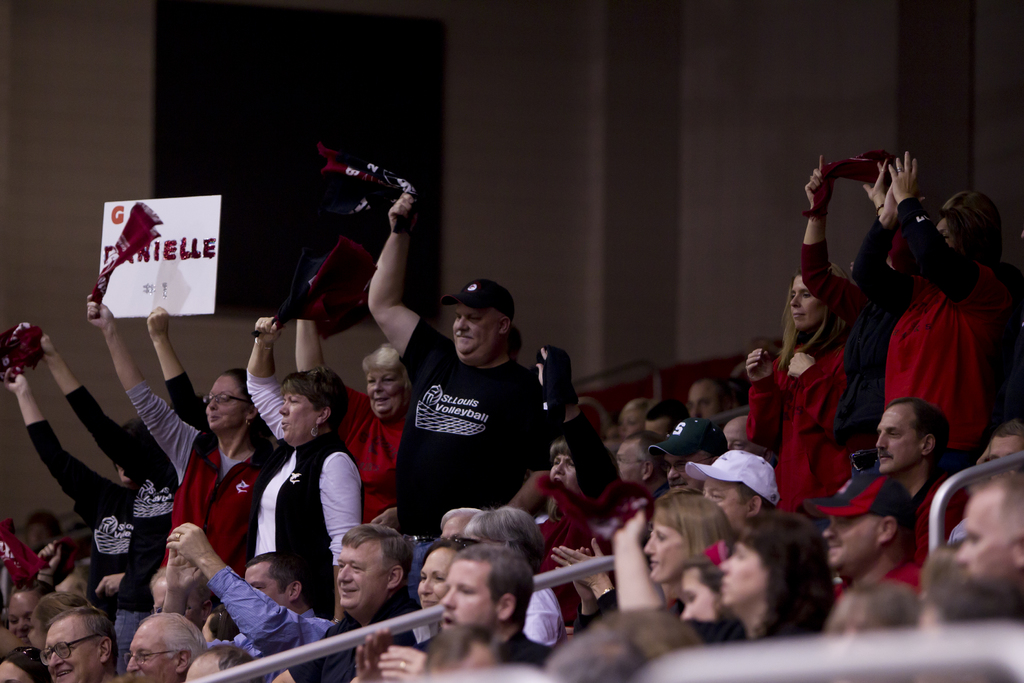Human_hand: (550, 533, 616, 586), (351, 628, 390, 682), (886, 148, 922, 205), (376, 646, 430, 682), (166, 523, 209, 568), (9, 322, 56, 360), (165, 552, 203, 595), (805, 154, 833, 205), (85, 293, 122, 331), (385, 193, 415, 234), (744, 347, 776, 384), (784, 349, 819, 382), (861, 160, 888, 201), (574, 548, 593, 600), (0, 358, 27, 394), (34, 541, 60, 578), (254, 314, 282, 345), (531, 343, 549, 388), (368, 507, 399, 533), (94, 574, 123, 597), (888, 181, 906, 218), (147, 308, 171, 333)
